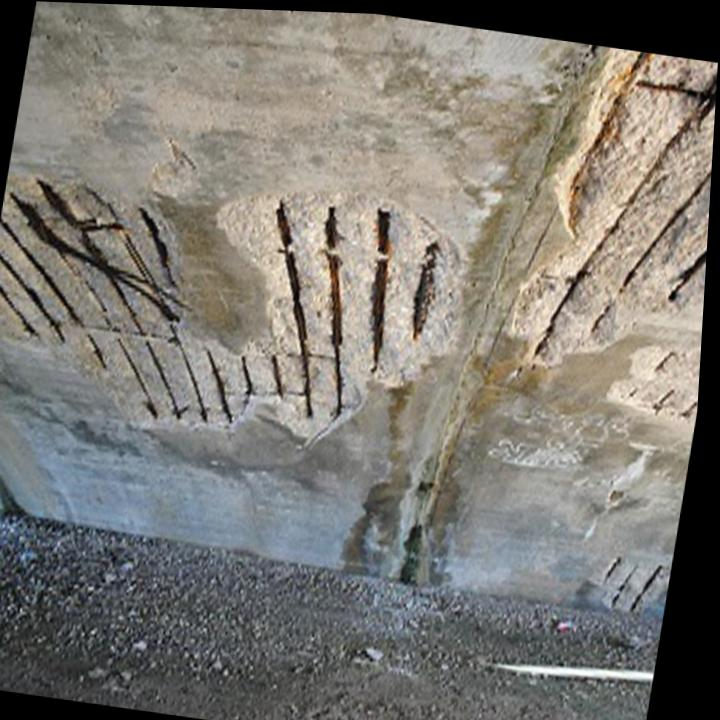damage: (0, 170, 464, 442), (510, 46, 718, 366), (609, 340, 705, 415), (596, 549, 678, 610)
